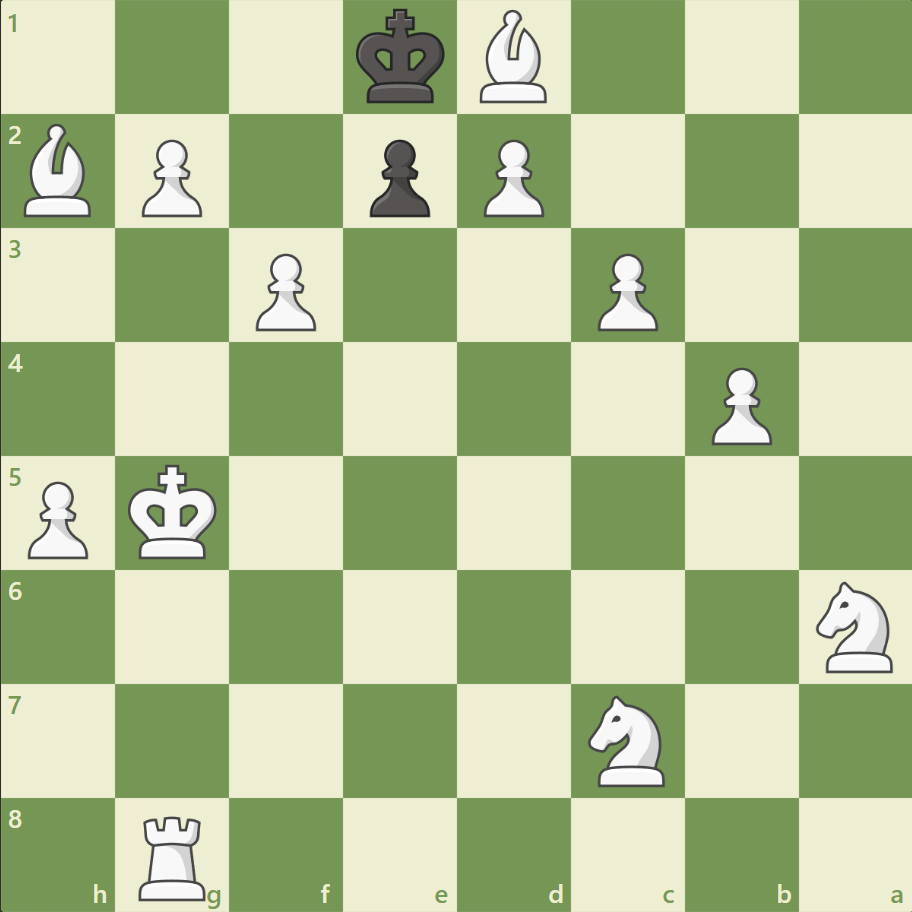B: (471, 6, 555, 109), (17, 120, 101, 222)
K: (124, 458, 224, 566)
N: (579, 688, 676, 791), (806, 575, 903, 677)
P: (20, 473, 95, 564), (701, 359, 776, 450), (247, 246, 322, 337), (474, 132, 549, 223), (133, 132, 208, 223), (588, 246, 662, 337)
R: (133, 806, 215, 904)
k: (351, 4, 451, 112)
p: (361, 132, 435, 223)
